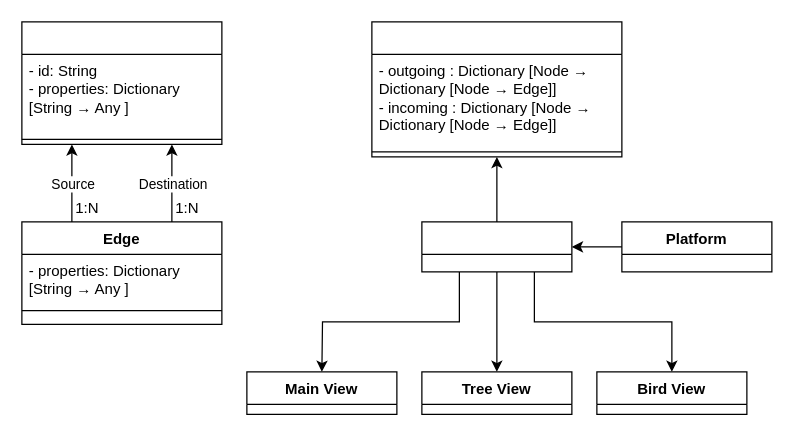
Image size: 794x436. Some labels were removed from this diagram. The box of each missing label's shape, as (x1, y1, x2, y2) in pixels:
Graph: (371, 21, 622, 157)
Node: (21, 21, 222, 144)
Workspace: (421, 221, 572, 272)
